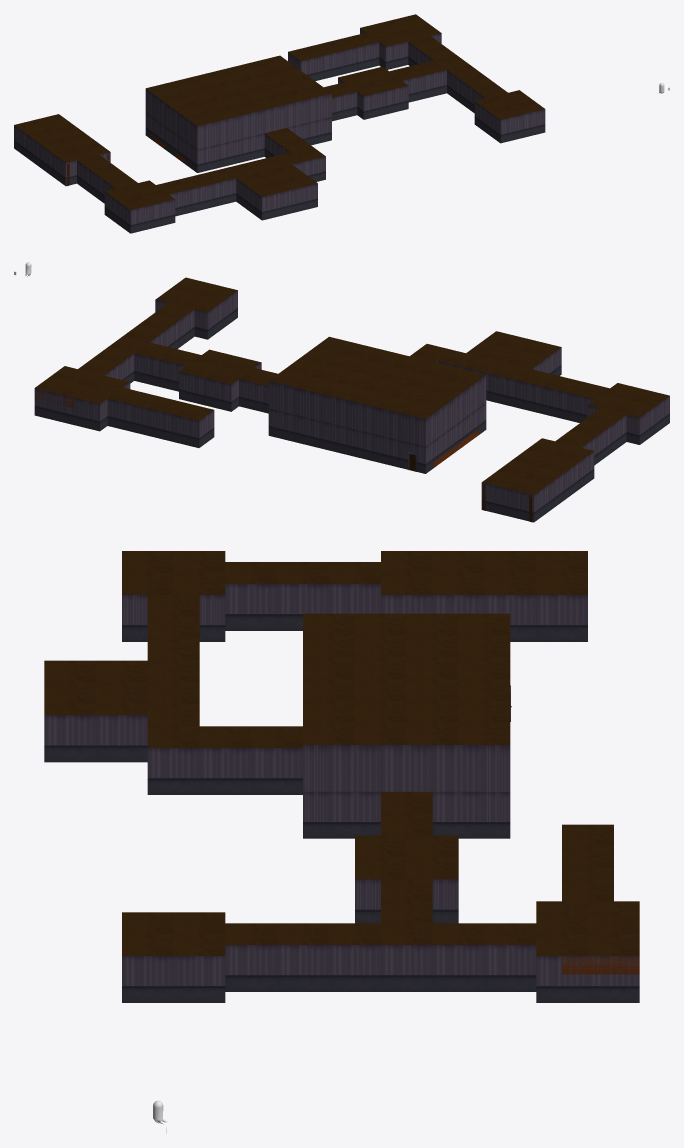
The model's file is layout.fbx.
3 views of the same model, one above another, from view 1: azimuth 30°, elevation 25°; view 2: azimuth 150°, elevation 25°; view 3: azimuth 270°, elevation 25° (orthographic). The views are drawn at different scales.
Parts seen in each view (by area): view 1: wall_flat.066, wall_flat.038, wall_flat.103, wall_flat.021, wall_flat.050, wall_flat.020, wall_flat.051, wall_flat.025, wall_flat.049, wall_flat.081, wall_flat.100, wall_flat.102 (+15 smaller); view 2: wall_flat.013, wall_flat.107, wall_flat.019, wall_flat.052, wall_flat.056, wall_flat.062, wall_flat.063, wall_flat.105, wall_flat.108, wall_flat.110, wall_flat.028, wall_flat.029 (+102 smaller); view 3: wall_flat.077, wall_flat.078, wall_flat.002, wall_flat.004, wall_flat.010, wall_flat.018, wall_flat.069, wall_flat.070, wall_flat.074, wall_flat.096, wall_flat.006, wall_flat.012 (+101 smaller).
Part boxes in pixels (left/top/right/bottom): wall_flat.066: left=213, top=178, right=236, bottom=206; wall_flat.038: left=385, top=41, right=408, bottom=69; wall_flat.103: left=219, top=115, right=242, bottom=143; wall_flat.021: left=363, top=91, right=386, bottom=119; wall_flat.050: left=219, top=139, right=242, bottom=167; wall_flat.020: left=386, top=85, right=408, bottom=114; wall_flat.051: left=197, top=144, right=219, bottom=172; wall_flat.025: left=357, top=42, right=379, bottom=70; wall_flat.049: left=242, top=133, right=264, bottom=161; wall_flat.081: left=153, top=199, right=175, bottom=227; wall_flat.100: left=309, top=93, right=331, bottom=122; wall_flat.102: left=242, top=110, right=264, bottom=138; wall_flat.013: left=179, top=372, right=205, bottom=405; wall_flat.107: left=321, top=394, right=347, bottom=427; wall_flat.019: left=205, top=378, right=231, bottom=411; wall_flat.052: left=268, top=408, right=294, bottom=441; wall_flat.056: left=373, top=434, right=399, bottom=467; wall_flat.062: left=516, top=380, right=542, bottom=413; wall_flat.063: left=542, top=387, right=568, bottom=420; wall_flat.105: left=268, top=381, right=294, bottom=414; wall_flat.108: left=347, top=400, right=373, bottom=433; wall_flat.110: left=399, top=413, right=425, bottom=446; wall_flat.028: left=146, top=408, right=172, bottom=441; wall_flat.029: left=173, top=414, right=199, bottom=447; wall_flat.077: left=44, top=715, right=95, bottom=762; wall_flat.078: left=96, top=715, right=147, bottom=762; wall_flat.002: left=225, top=945, right=277, bottom=991; wall_flat.004: left=173, top=956, right=225, bottom=1002; wall_flat.010: left=484, top=945, right=536, bottom=991; wall_flat.018: left=432, top=945, right=484, bottom=991; wall_flat.069: left=147, top=748, right=199, bottom=794; wall_flat.070: left=199, top=748, right=251, bottom=794; wall_flat.074: left=225, top=584, right=277, bottom=630; wall_flat.096: left=432, top=745, right=484, bottom=791; wall_flat.006: left=122, top=956, right=173, bottom=1002; wall_flat.012: left=277, top=945, right=328, bottom=991.
Bounding box in the file's own units: 24556 × 2010 × 11500.
6 materials, 6 textured.
